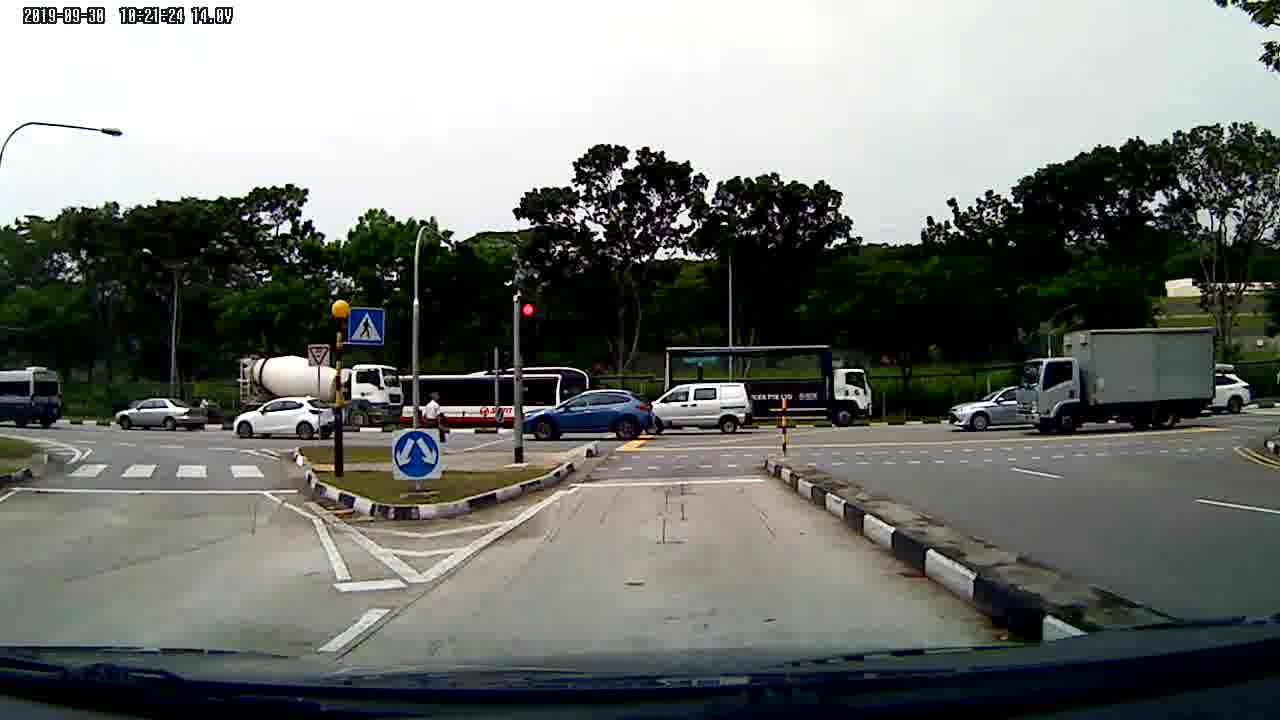bus: (400, 364, 601, 442)
car: (521, 392, 656, 444), (231, 396, 337, 447), (105, 395, 208, 440), (944, 385, 1016, 434)
